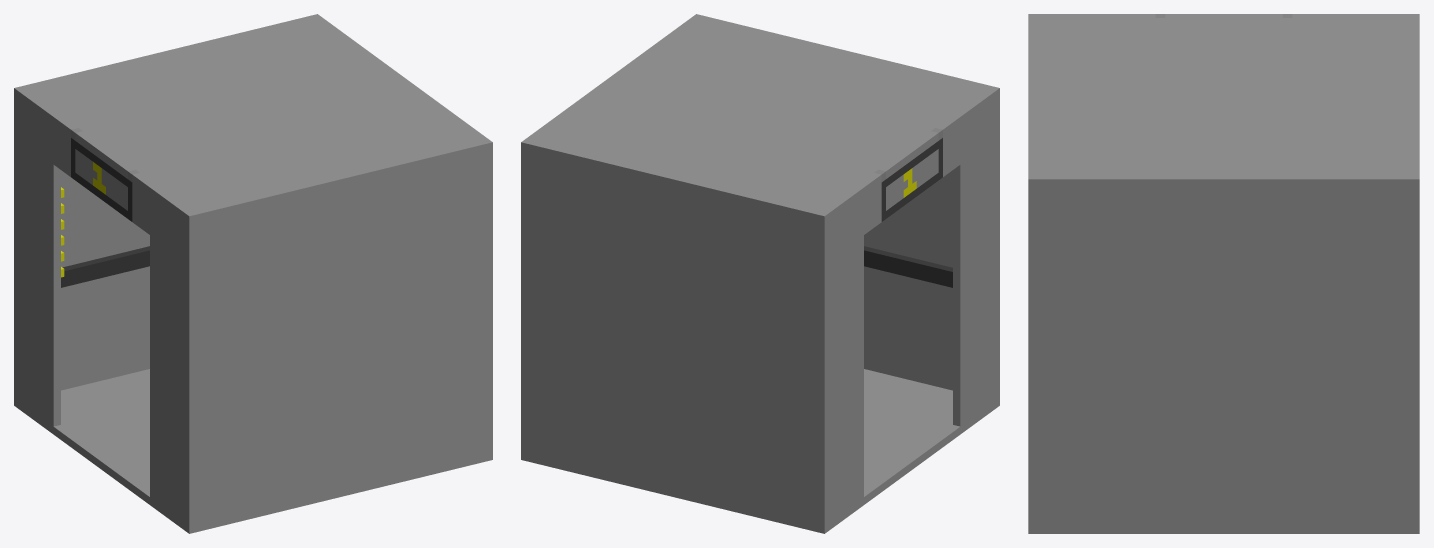
The model's file is whole elevator.obj.
The picture shows the model from 3 angles, left to right: view 1: azimuth 30°, elevation 25°; view 2: azimuth 150°, elevation 25°; view 3: azimuth 270°, elevation 25°; orthographic projection. The views are drawn at different scales.
Parts seen in each view (by area): view 1: whole elevator; view 2: whole elevator; view 3: whole elevator.
Boxes of the visible parts, x1,y1,x2,y2 form: whole elevator: (14, 14, 492, 533); whole elevator: (521, 14, 999, 533); whole elevator: (1028, 14, 1419, 533).
Bounding box in the file's own units: 40 × 40 × 40.
1 material, 1 textured.
